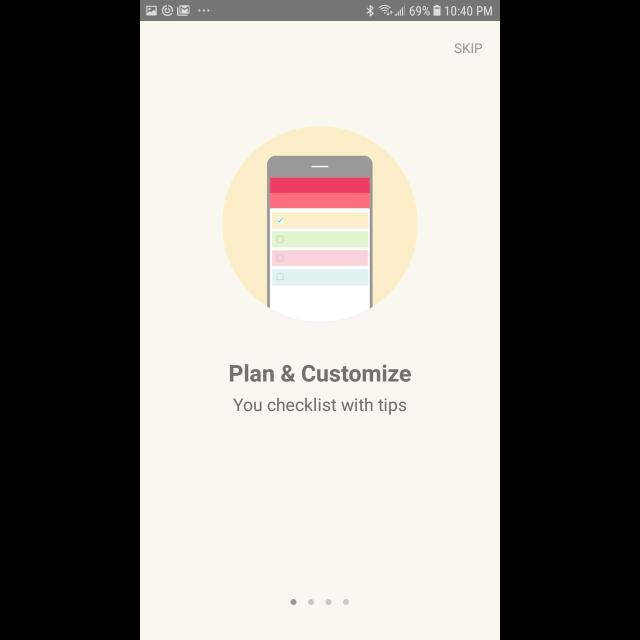image: (222, 125, 418, 322)
pageindicator: (290, 598, 350, 606)
text: (230, 364, 412, 382), (233, 397, 407, 415), (454, 42, 482, 54)
uppertaskbar: (140, 1, 500, 22)
